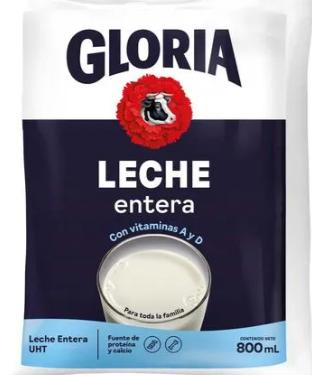brand: (59, 16, 256, 89)
net_weight: (225, 340, 285, 359)
product_name: (90, 152, 214, 218)
